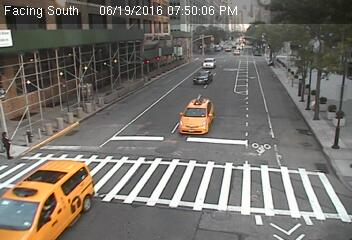neg: (308, 96, 325, 118), (265, 51, 277, 66), (76, 85, 86, 100)
